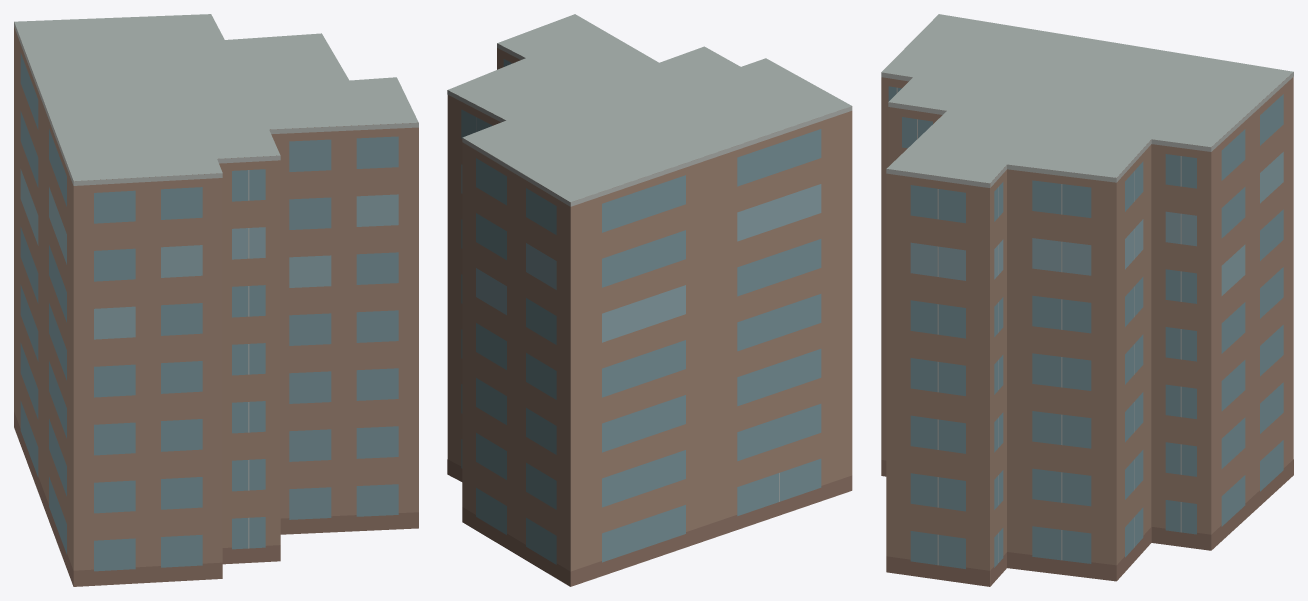
The model's file is survey-upis-33040588.glb.
3 views of the same model, side by side, from view 1: azimuth 30°, elevation 25°; view 2: azimuth 150°, elevation 25°; view 3: azimuth 270°, elevation 25° (orthographic). The views are drawn at different scales.
Parts seen in each view (by area): view 1: survey-upis-33040588.tmp; view 2: survey-upis-33040588.tmp; view 3: survey-upis-33040588.tmp.
Boxes of the visible parts, x1,y1,x2,y2 form: survey-upis-33040588.tmp: [14, 14, 418, 586]; survey-upis-33040588.tmp: [447, 14, 852, 586]; survey-upis-33040588.tmp: [881, 14, 1293, 586].
Size of the model in its own units: 18.56 by 20.6 by 19.1.
